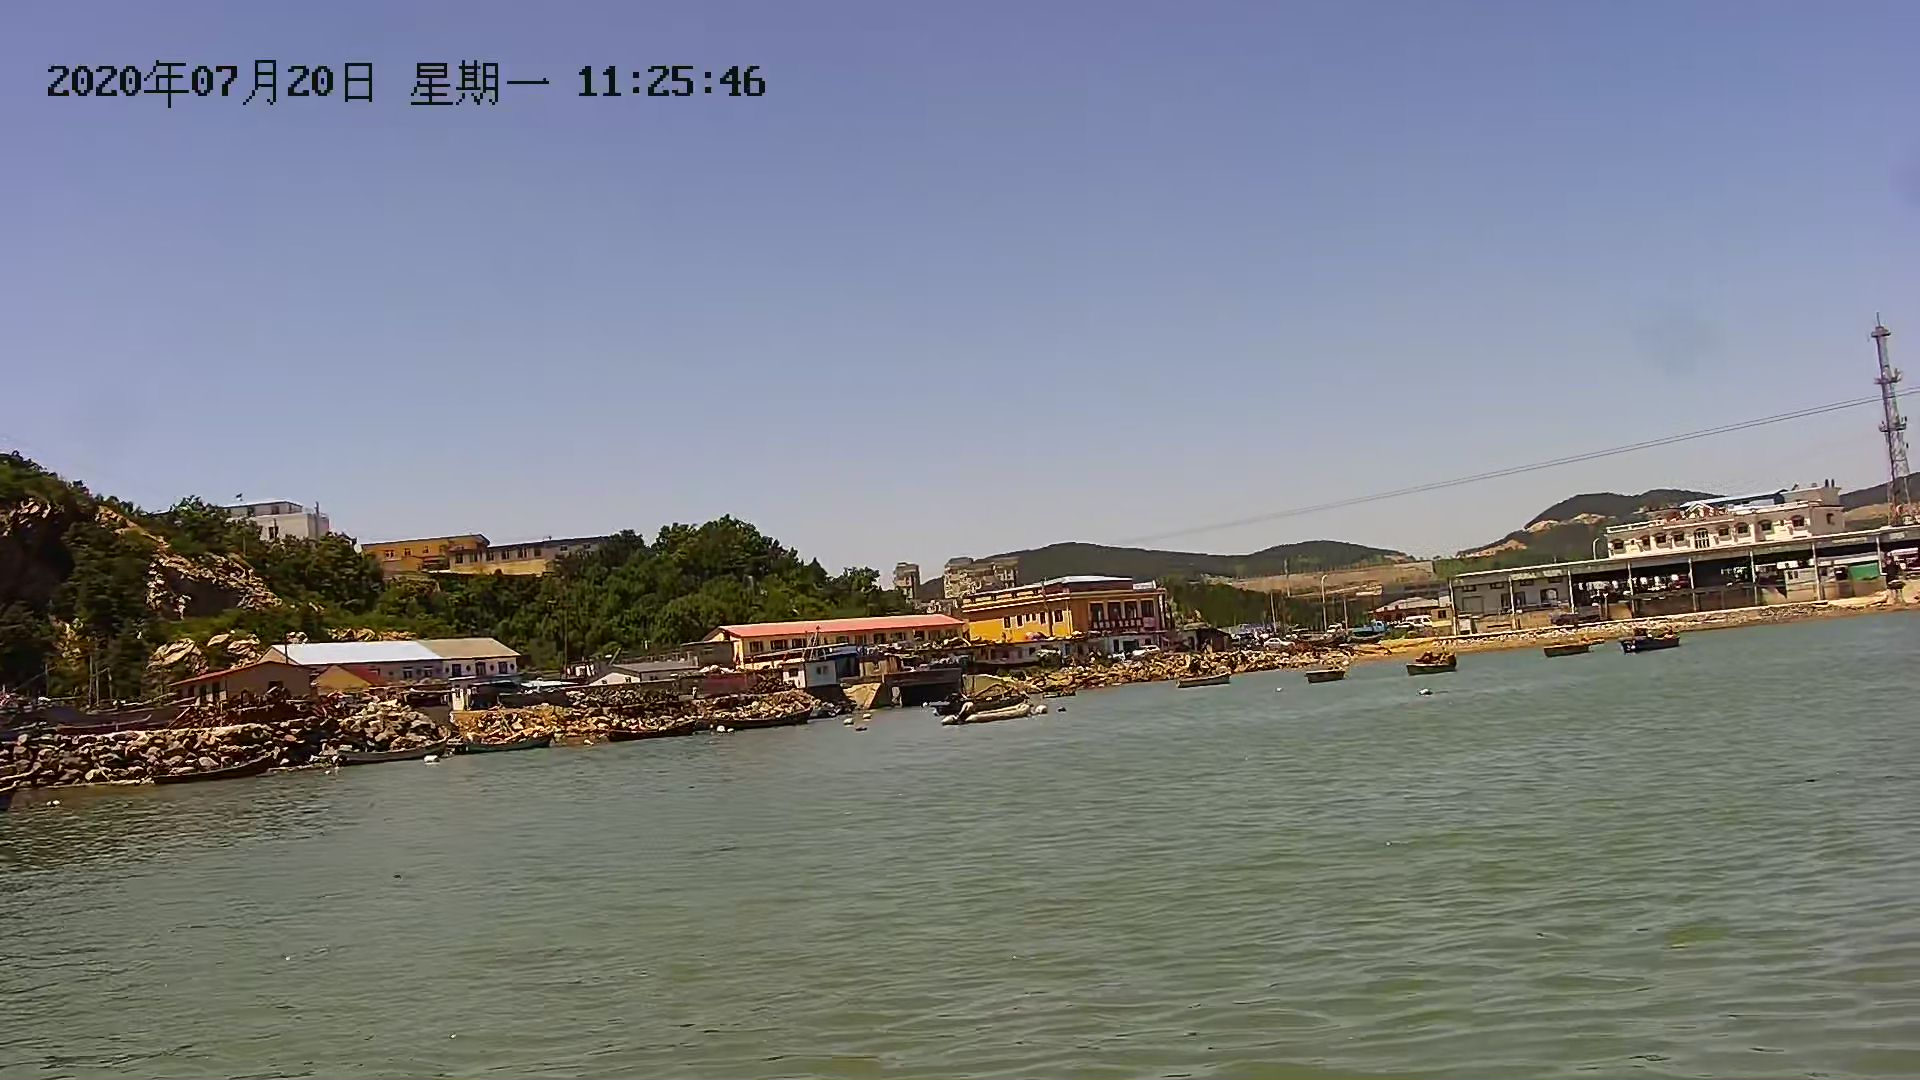boat: (1403, 646, 1461, 680), (1623, 624, 1677, 659), (1160, 671, 1244, 688), (1538, 638, 1600, 655), (1300, 667, 1354, 686)
rock: (938, 682, 1064, 724)
